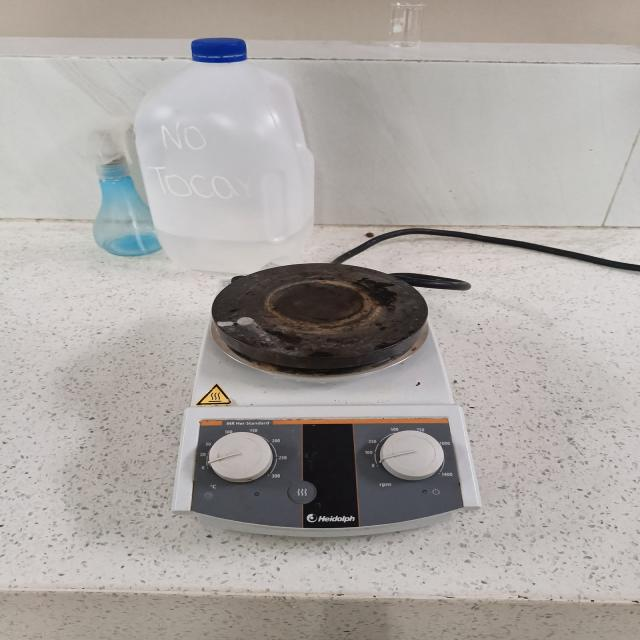Placa Calefactora con Agitador MagneticoMetalico: (172, 264, 480, 537)
